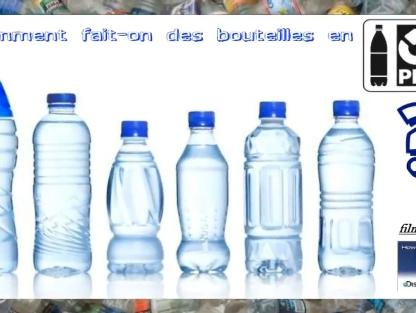Plastic Bottle: (32, 94, 90, 274), (245, 102, 302, 278), (319, 101, 375, 273), (176, 112, 230, 274), (108, 122, 162, 277)
